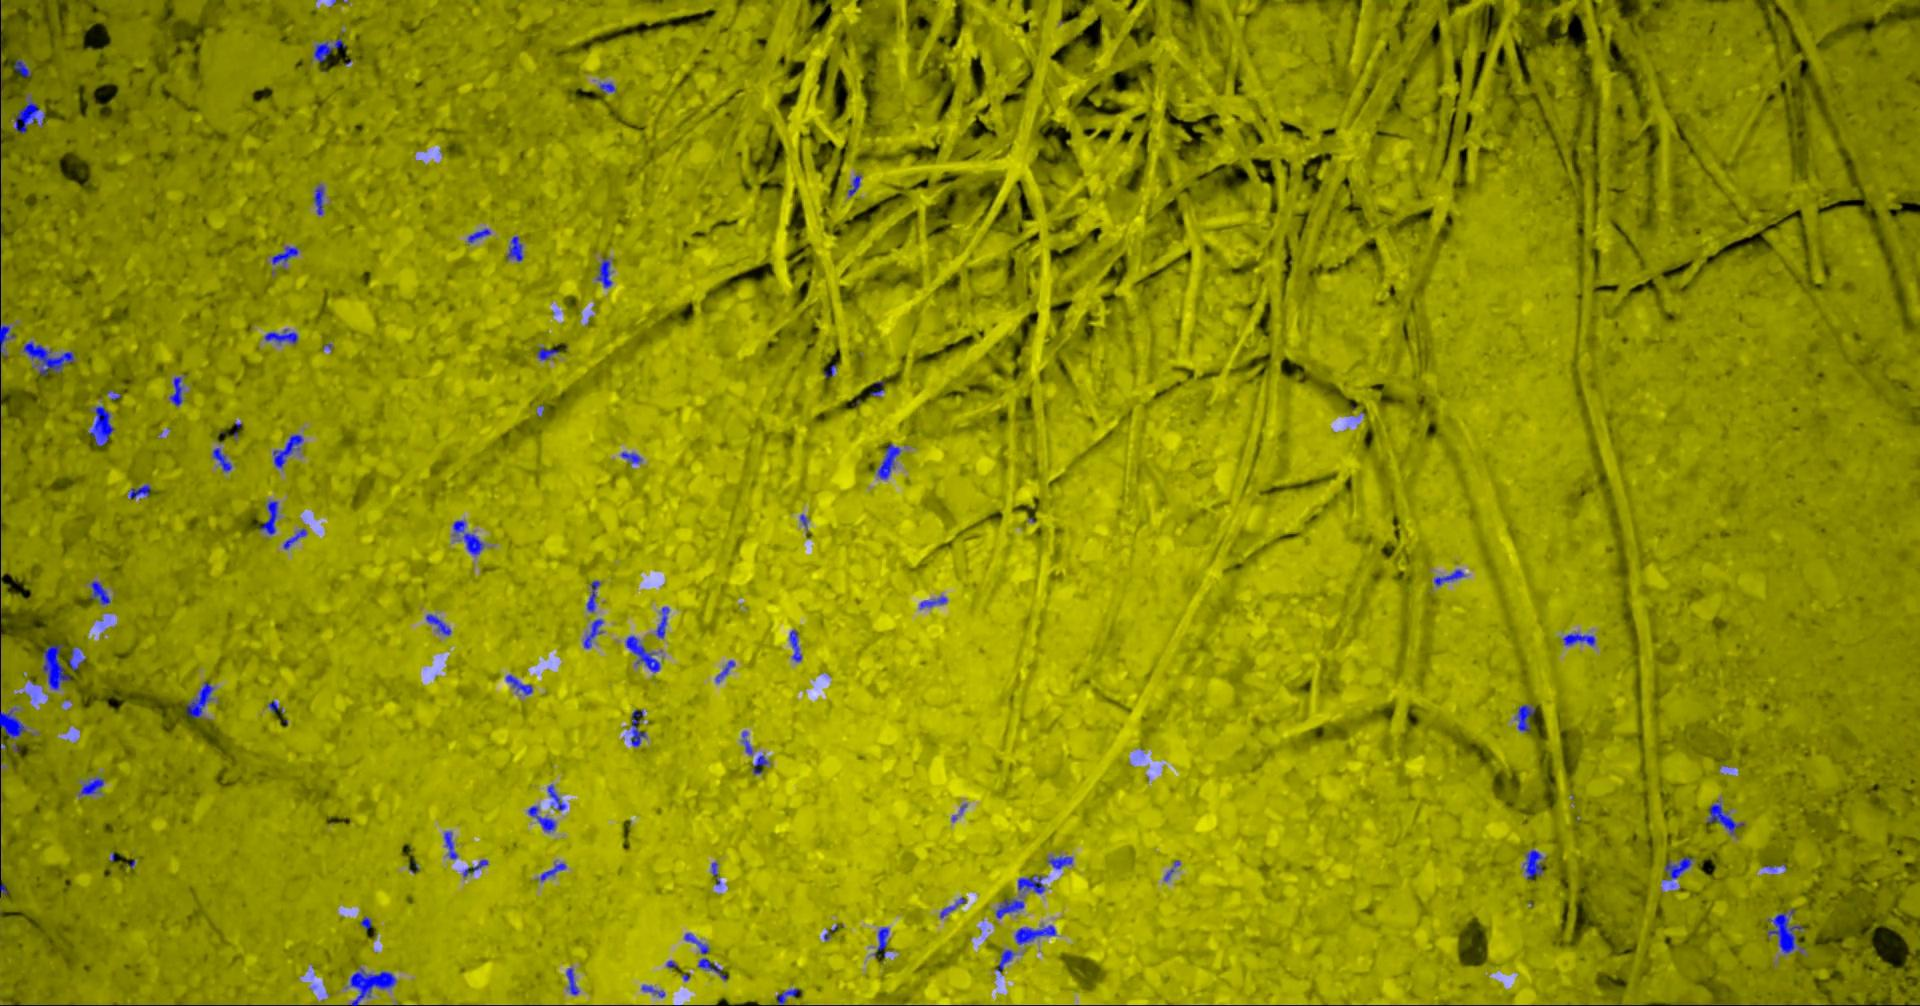ant: (24, 340, 76, 375), (350, 968, 397, 1005), (1769, 908, 1804, 953), (1708, 800, 1746, 835), (44, 643, 72, 688), (627, 635, 662, 672), (15, 98, 47, 133), (455, 520, 486, 554), (89, 406, 116, 446), (187, 681, 215, 718), (274, 434, 303, 467), (1016, 923, 1057, 944), (879, 443, 902, 479), (1, 708, 27, 739), (315, 38, 347, 62), (1665, 856, 1695, 880), (530, 805, 557, 831), (698, 958, 728, 979), (262, 500, 279, 533), (1525, 848, 1544, 879), (997, 898, 1025, 918), (632, 709, 648, 746), (585, 619, 604, 648), (427, 614, 452, 635), (941, 897, 968, 917), (507, 674, 535, 694), (1517, 704, 1537, 730), (549, 784, 568, 810), (684, 934, 711, 953), (1, 323, 17, 356), (265, 328, 298, 343), (1435, 569, 1465, 586), (1018, 875, 1046, 893), (284, 528, 309, 549), (91, 580, 112, 605), (273, 246, 300, 264), (997, 949, 1016, 973), (80, 777, 105, 795), (463, 859, 489, 876), (542, 862, 568, 880), (598, 258, 613, 287), (657, 606, 670, 638), (215, 447, 232, 471), (1564, 633, 1597, 645), (717, 661, 737, 682), (70, 647, 88, 669), (508, 236, 524, 260), (778, 988, 803, 1005), (921, 594, 949, 608), (444, 831, 458, 859), (568, 967, 582, 995), (588, 580, 601, 611), (171, 376, 184, 405), (877, 927, 890, 956), (791, 629, 803, 661), (469, 227, 491, 243), (15, 58, 33, 77), (754, 754, 771, 774), (850, 174, 863, 196), (131, 484, 152, 498), (538, 347, 561, 359), (1049, 856, 1074, 868), (643, 984, 665, 997), (315, 185, 325, 213), (743, 730, 754, 754), (622, 451, 643, 464), (872, 381, 885, 396), (601, 83, 617, 91)
